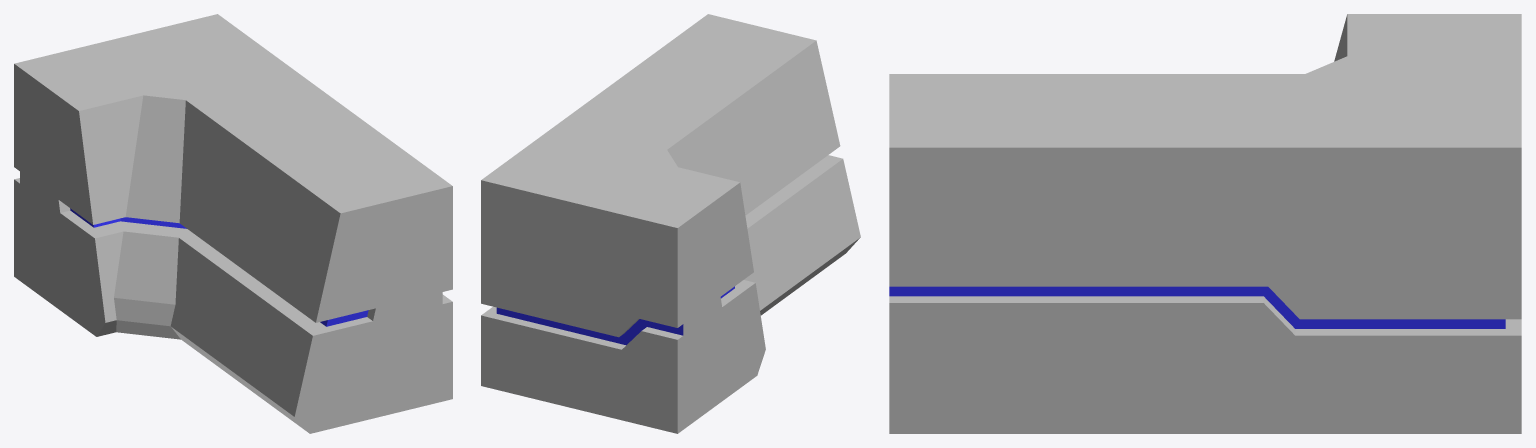
The model's file is x_ZAMOK_ZABOR_wall_part7_corner1_rmstrd.fbx.
3 renders of one model, left to right at view 1: azimuth 30°, elevation 25°; view 2: azimuth 150°, elevation 25°; view 3: azimuth 270°, elevation 25°, orthographic. The views are drawn at different scales.
Parts seen in each view (by area): view 1: x_ZAMOK_ZABOR_wall_part7_corner1_rmstrd1; view 2: x_ZAMOK_ZABOR_wall_part7_corner1_rmstrd1; view 3: x_ZAMOK_ZABOR_wall_part7_corner1_rmstrd1.
Part boxes in pixels (x1=…): x_ZAMOK_ZABOR_wall_part7_corner1_rmstrd1: x1=14, y1=14, x2=452, y2=433; x_ZAMOK_ZABOR_wall_part7_corner1_rmstrd1: x1=481, y1=14, x2=860, y2=433; x_ZAMOK_ZABOR_wall_part7_corner1_rmstrd1: x1=889, y1=14, x2=1521, y2=433.
Bounding box in the file's own units: 2 × 2 × 4.
